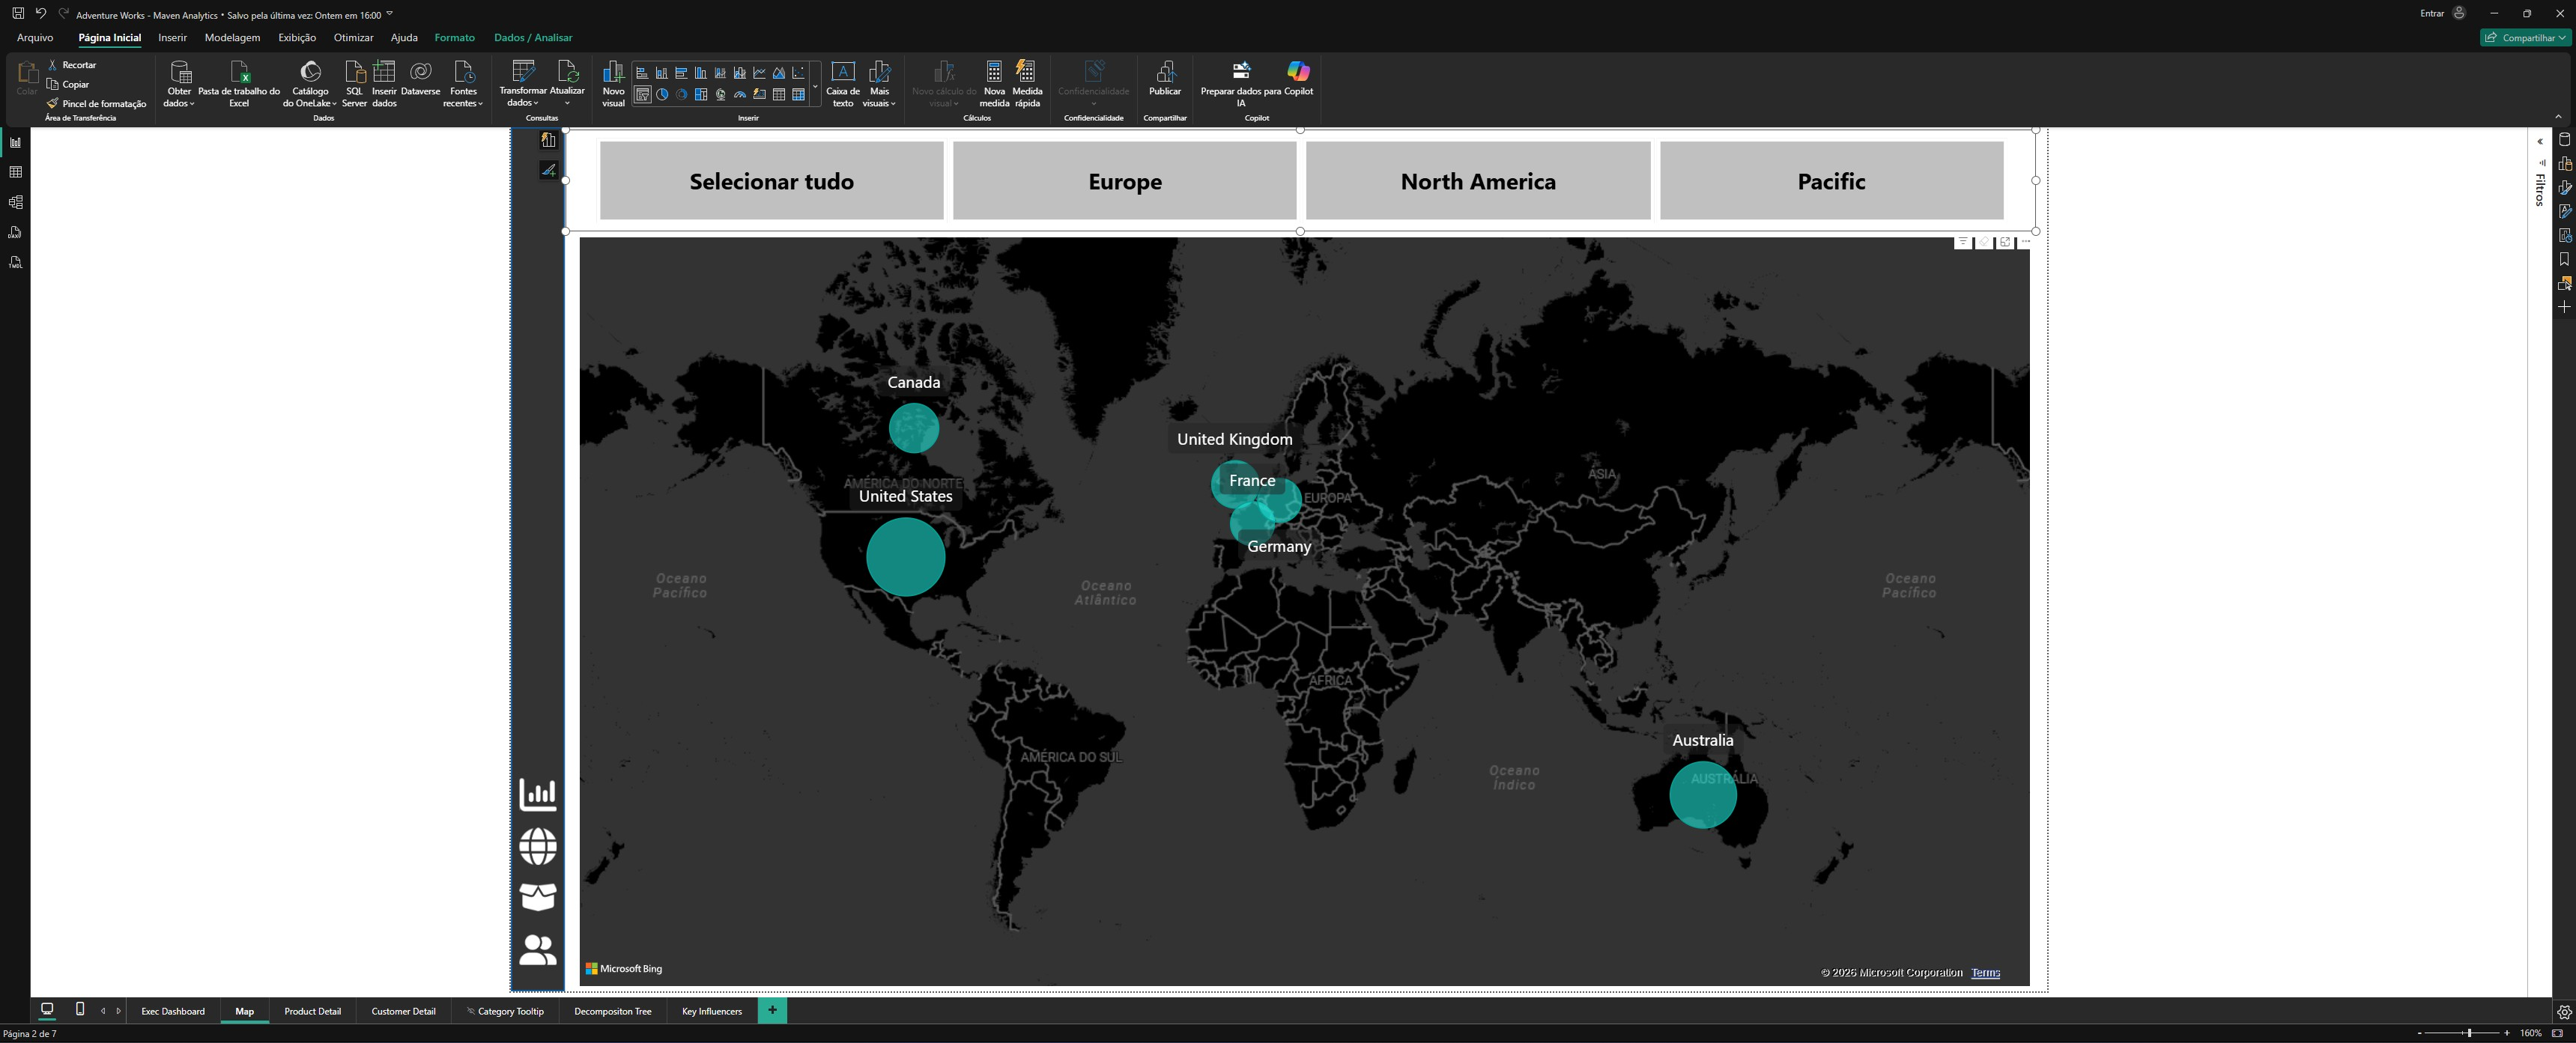

This screenshot's page, from the dashboard's own definition file:
{"tool":"powerbi","page":{"name":"Map","canvas":[1280,720],"ordinal":1},"visuals":[{"type":"shape","box":[0,0,45,720],"z":0},{"type":"actionButton","box":[3,536.7,42.4,39.3],"z":0,"group":"g1"},{"type":"map","fields":{"Category":["Territory Lookup.Country"],"Size":["Measure Table (Inserir).Total Orders"]},"box":[52.5,86.8,1217.7,633.5],"z":1000},{"type":"actionButton","box":[3,579.6,42.4,39.3],"z":1000,"group":"g1"},{"type":"slicer","fields":{"Values":["Territory Lookup.Continent"]},"box":[45.4,2,1224.7,84.7],"z":2000},{"type":"actionButton","box":[3,622.5,42.4,39.3],"z":2000,"group":"g1"},{"type":"group","id":"g1","title":"Navigation Buttons","box":[3,536.7,42.4,168.5],"z":3000},{"type":"actionButton","box":[3,665.8,42.4,39.3],"z":3000,"group":"g1"}]}

Visuals, with their boxes on the page's 1280x720 design canvas (x1, y1, x2, y2). These are canvas units, not pixel positions in the 2576x1043 screenshot, which may show the page scaled, cropped or inside an application window:
shape: rect(0, 0, 45, 720)
actionButton: rect(3, 537, 45, 576)
map - Territory Lookup.Country x Measure Table (Inserir).Total Orders: rect(52, 87, 1270, 720)
actionButton: rect(3, 580, 45, 619)
slicer - Territory Lookup.Continent: rect(45, 2, 1270, 87)
actionButton: rect(3, 622, 45, 662)
"Navigation Buttons" group: rect(3, 537, 45, 705)
actionButton: rect(3, 666, 45, 705)
